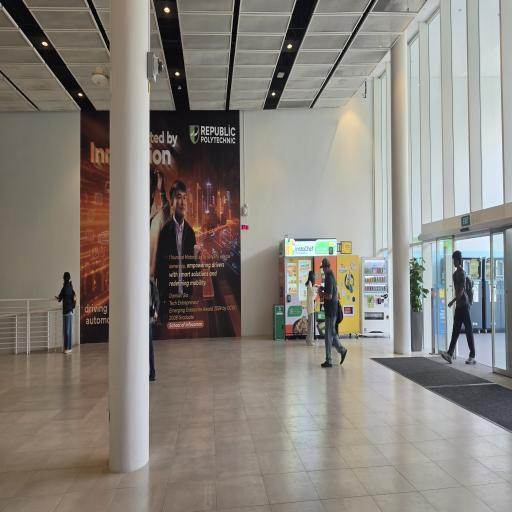person_left: (438, 244, 480, 367), (321, 254, 346, 366), (145, 270, 163, 385), (58, 268, 78, 357)
person_right: (306, 266, 316, 346)
